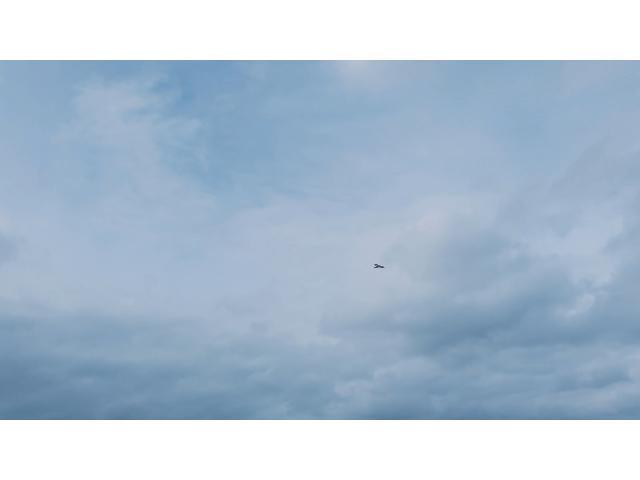Anti-Drone: (371, 259, 387, 271)
